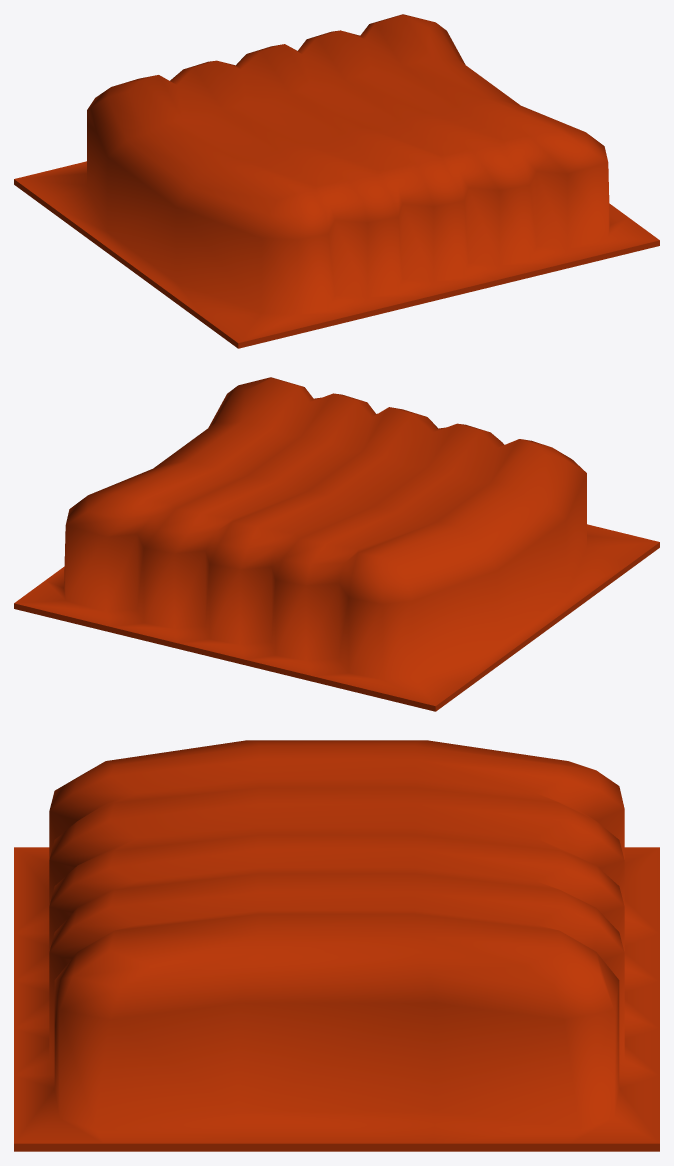
File: Sausage_Frankfruter.fbx
3 renders of one model, top to bottom at view 1: azimuth 30°, elevation 25°; view 2: azimuth 150°, elevation 25°; view 3: azimuth 270°, elevation 25°, orthographic. The views are drawn at different scales.
Parts seen in each view (by area): view 1: Sausage_Frankfruter set; view 2: Sausage_Frankfruter set; view 3: Sausage_Frankfruter set.
Part boxes in pixels (x1=…): Sausage_Frankfruter set: x1=14, y1=14, x2=659, y2=348; Sausage_Frankfruter set: x1=14, y1=377, x2=659, y2=711; Sausage_Frankfruter set: x1=14, y1=740, x2=659, y2=1151.
Bounding box in the file's own units: 33.6 × 8.16 × 30.95.
